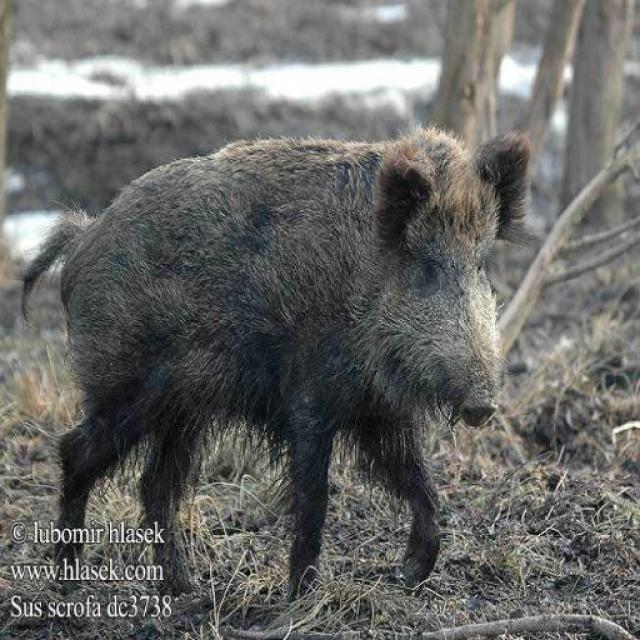pig: (32, 76, 580, 540)
